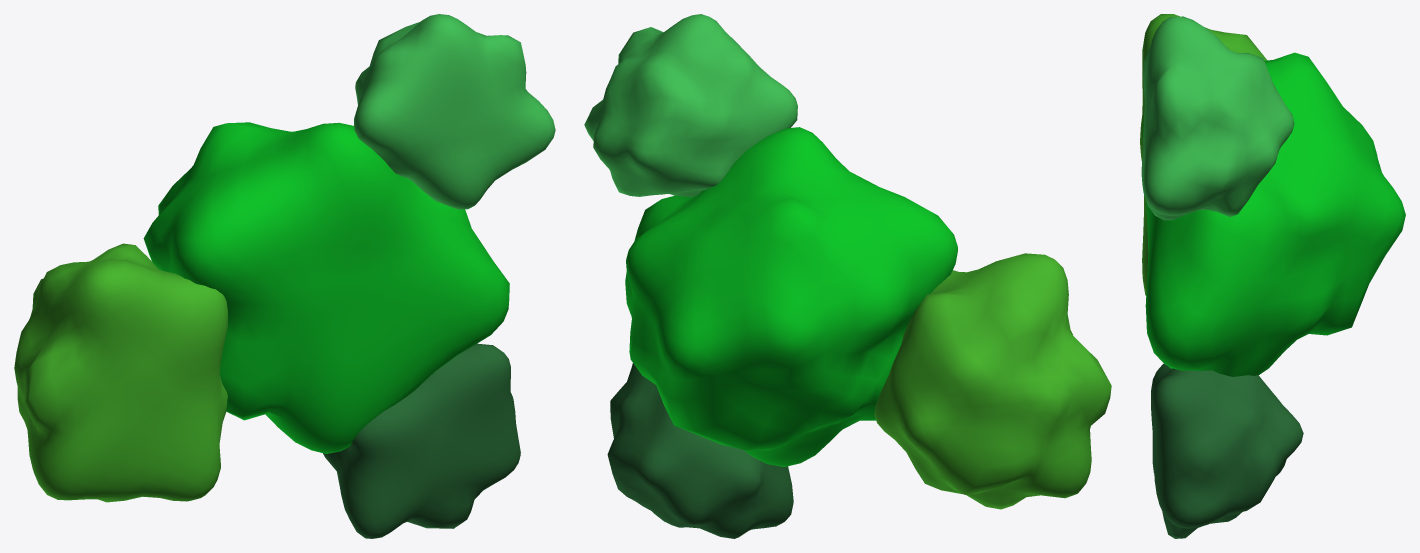
The model's file is bushes_green (2).fbx.
The picture shows the model from 3 angles, left to right: view 1: azimuth 30°, elevation 25°; view 2: azimuth 150°, elevation 25°; view 3: azimuth 270°, elevation 25°; orthographic projection. The views are drawn at different scales.
Parts seen in each view (by area): view 1: Icosphere; view 2: Icosphere; view 3: Icosphere.
Boxes of the visible parts, x1,y1,x2,y2 form: Icosphere: (14,14,555,538); Icosphere: (584,14,1111,538); Icosphere: (1140,14,1405,538).
Size of the model in its own units: 519 by 490 by 229.
